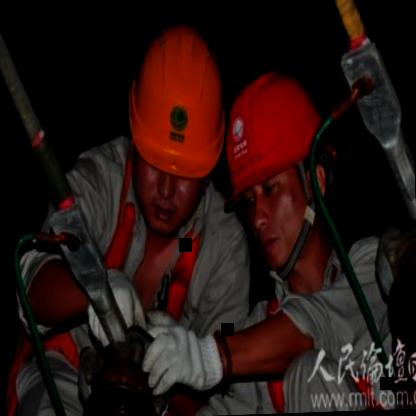helmet: (117, 2, 237, 243), (220, 56, 342, 275)
